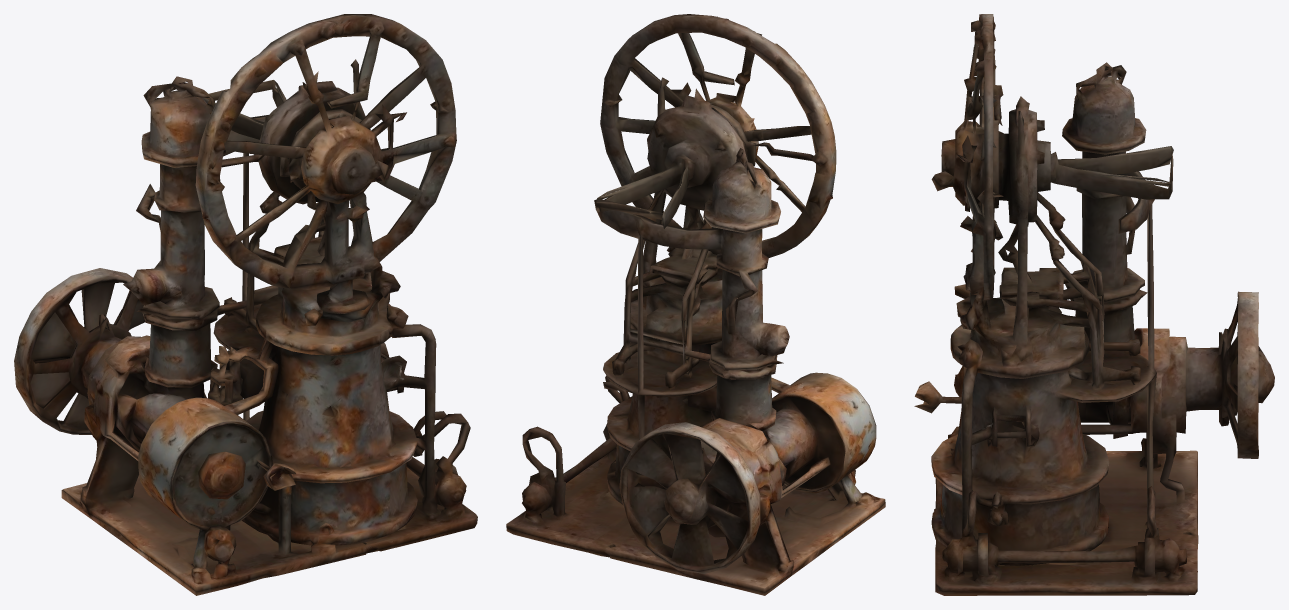
File: tripo_convert_7cd06ed0-b711-4148-acd8-228f36dadd64.fbx
The picture shows the model from 3 angles, left to right: view 1: azimuth 30°, elevation 25°; view 2: azimuth 150°, elevation 25°; view 3: azimuth 270°, elevation 25°; orthographic projection. The views are drawn at different scales.
Visible parts, largest first — view 1: tripo_node_7cd06ed0; view 2: tripo_node_7cd06ed0; view 3: tripo_node_7cd06ed0.
Part boxes in pixels (bbox=[...]): tripo_node_7cd06ed0: bbox=[14, 14, 477, 595]; tripo_node_7cd06ed0: bbox=[506, 14, 885, 595]; tripo_node_7cd06ed0: bbox=[914, 14, 1274, 595].
Size of the model in its own units: 0.6232 by 1 by 0.644.
1 material, 1 textured.
